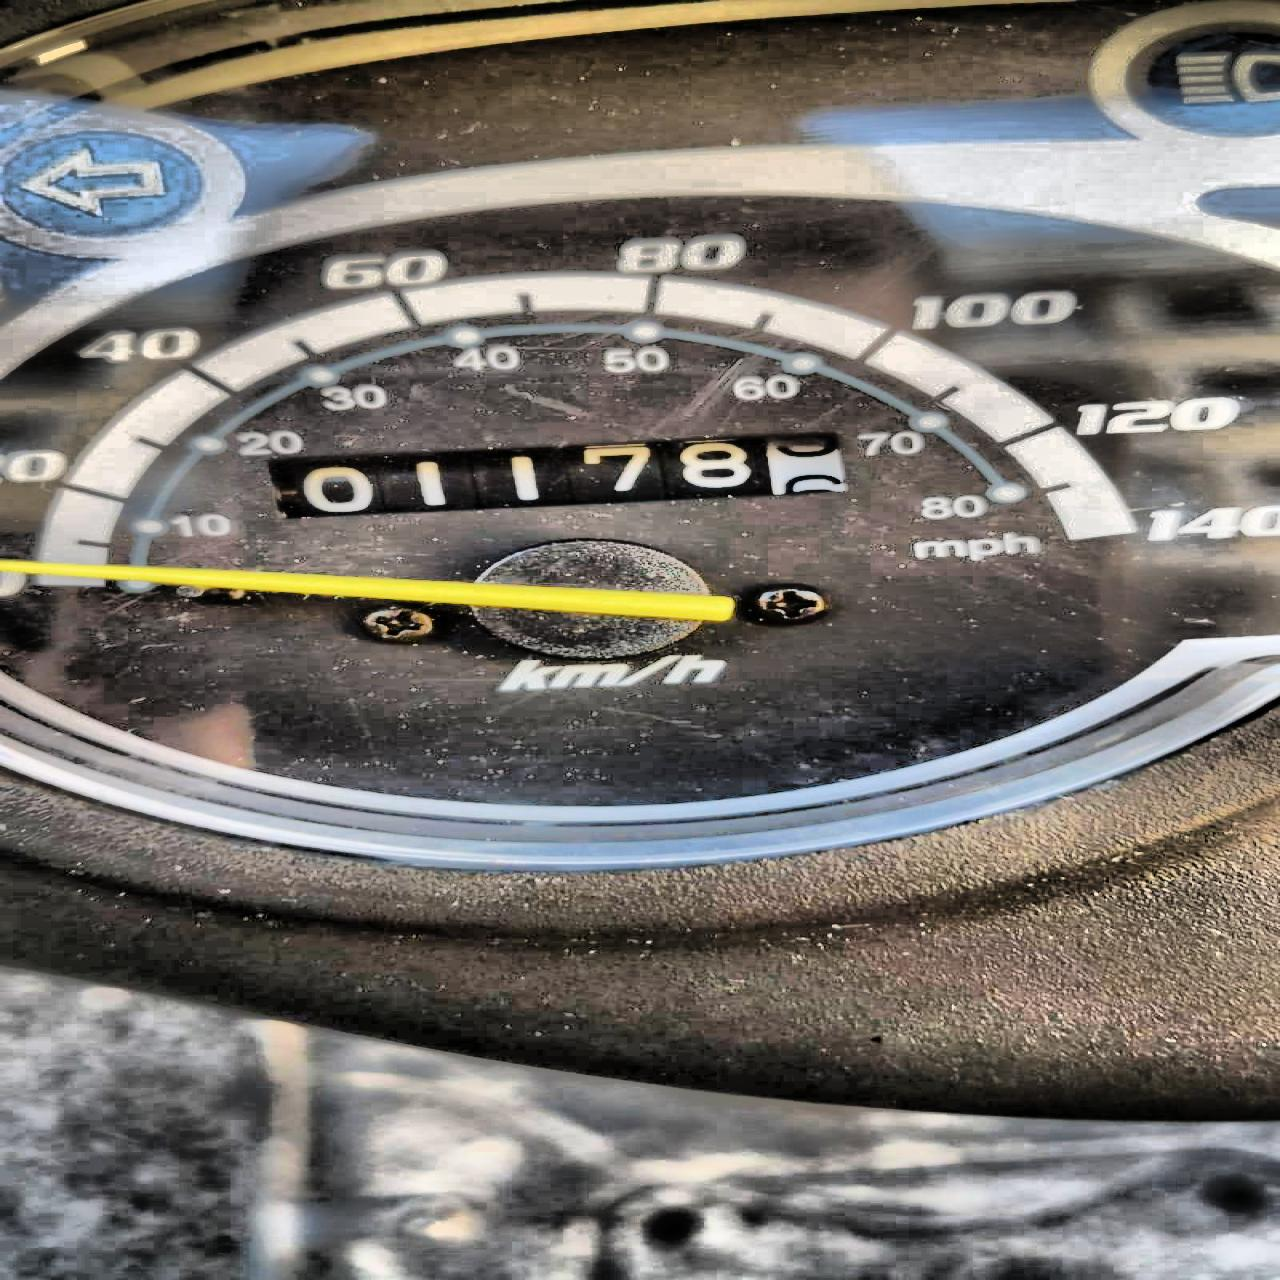0: (304, 463, 374, 518), (272, 429, 302, 452)
1: (403, 455, 458, 511), (504, 451, 549, 505)
6: (765, 469, 853, 510)
7: (574, 443, 652, 497)
8: (679, 440, 757, 495)
odometer: (266, 424, 860, 523)
